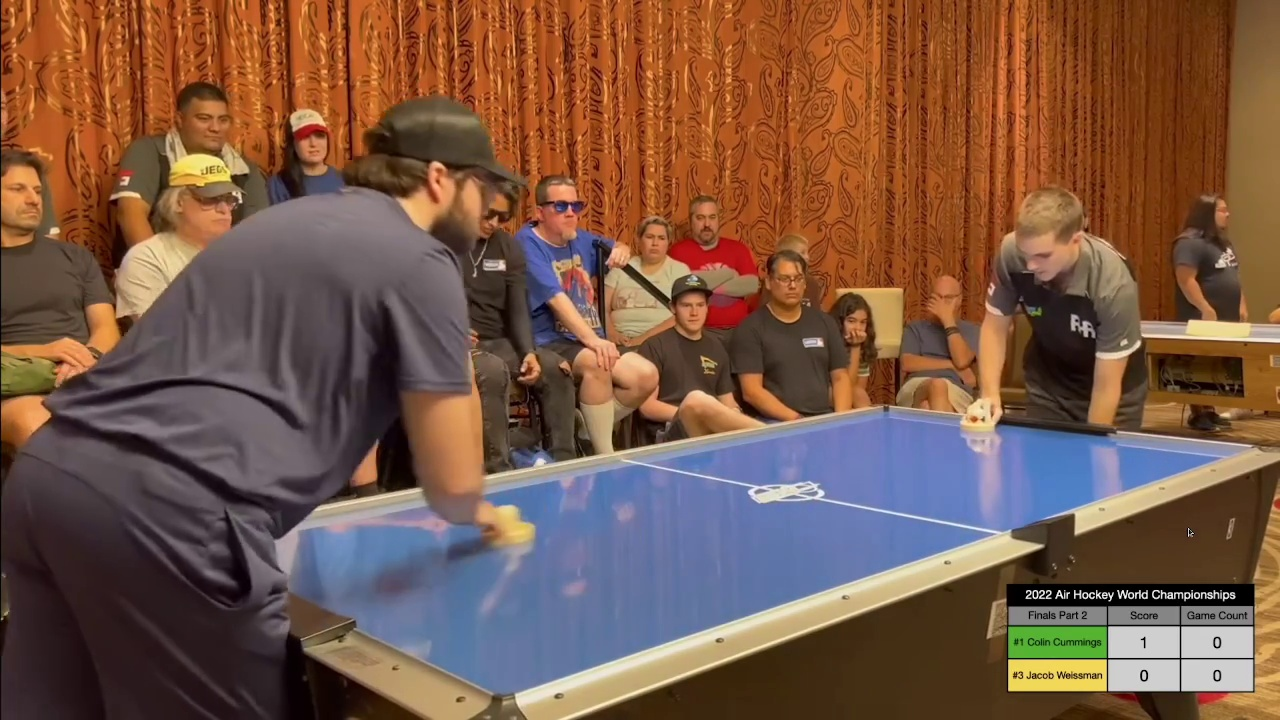player: (485, 503, 536, 550), (952, 398, 995, 437)
table: (143, 403, 1280, 700)
